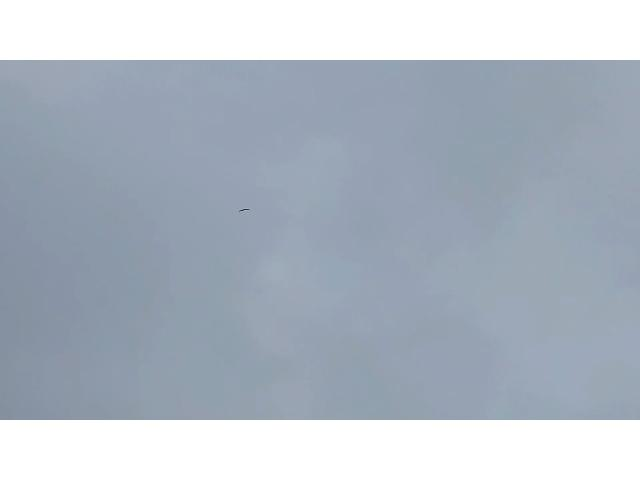Anti-Drone: (238, 208, 250, 212)
